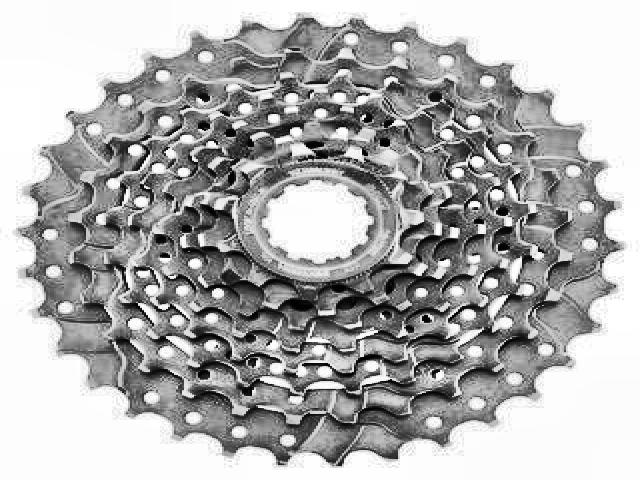cassette: (17, 8, 627, 468)
